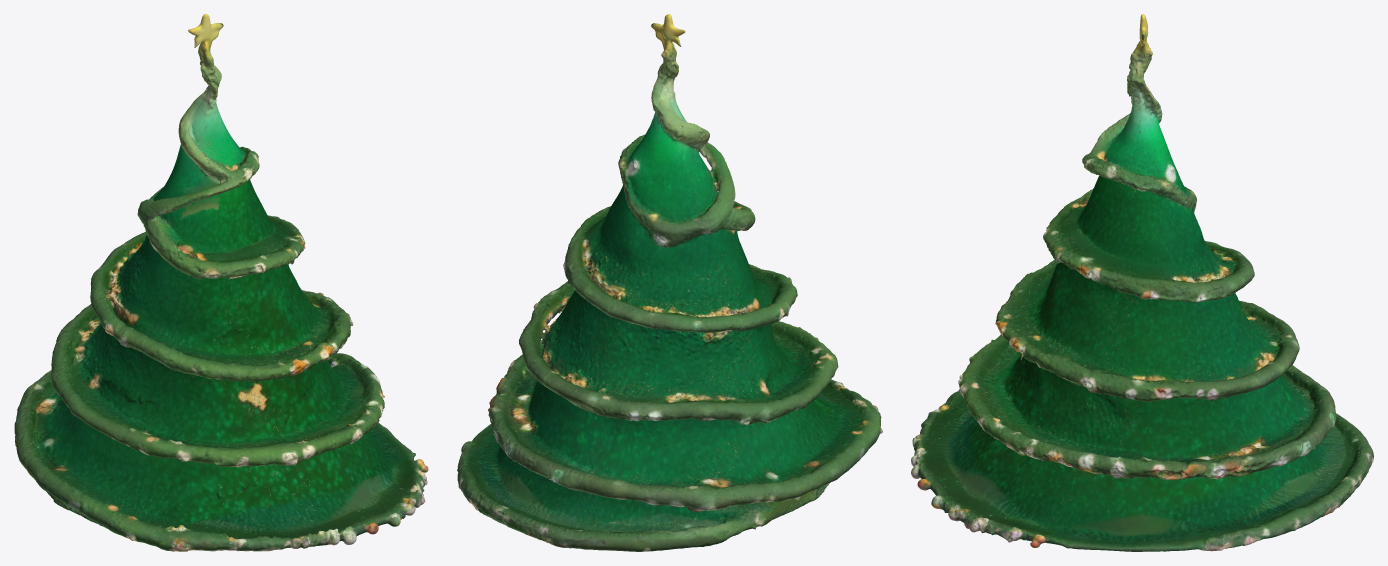
The model's file is christmas-tree-model.glb.
3 renders of one model, left to right at view 1: azimuth 30°, elevation 25°; view 2: azimuth 150°, elevation 25°; view 3: azimuth 270°, elevation 25°, orthographic.
Size of the model in its own units: 1.58 by 2 by 1.84.
1 material, 1 textured.
